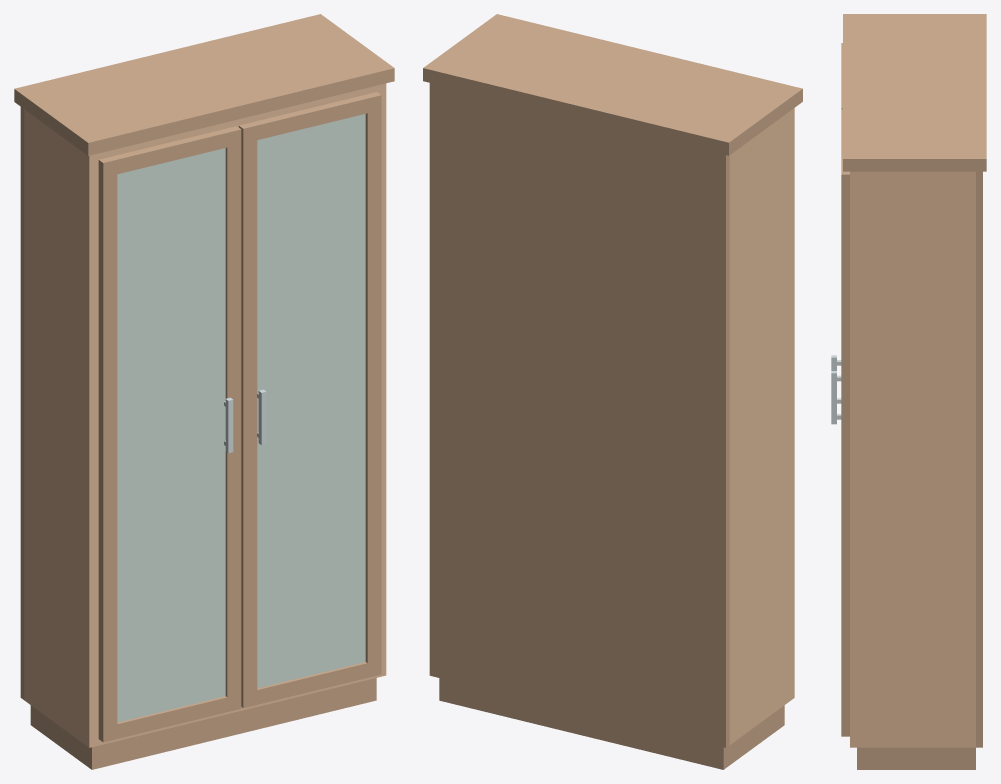
The model's file is bookcaseGlass.glb.
3 renders of one model, left to right at view 1: azimuth 30°, elevation 25°; view 2: azimuth 150°, elevation 25°; view 3: azimuth 270°, elevation 25°, orthographic. The views are drawn at different scales.
Parts seen in each view (by area): view 1: bookcaseGlass, anim:doorL, anim:doorR; view 2: bookcaseGlass; view 3: bookcaseGlass, anim:doorR, anim:doorL.
Boxes of the visible parts, x1,y1,x2,y2 form: bookcaseGlass: (14, 14, 394, 769); anim:doorL: (98, 126, 241, 742); anim:doorR: (239, 92, 381, 707); bookcaseGlass: (423, 14, 802, 769); bookcaseGlass: (843, 14, 986, 769); anim:doorR: (831, 109, 849, 736); anim:doorL: (831, 43, 842, 403).
Bounding box in the file's own units: 0.49 × 0.97 × 0.2215.
